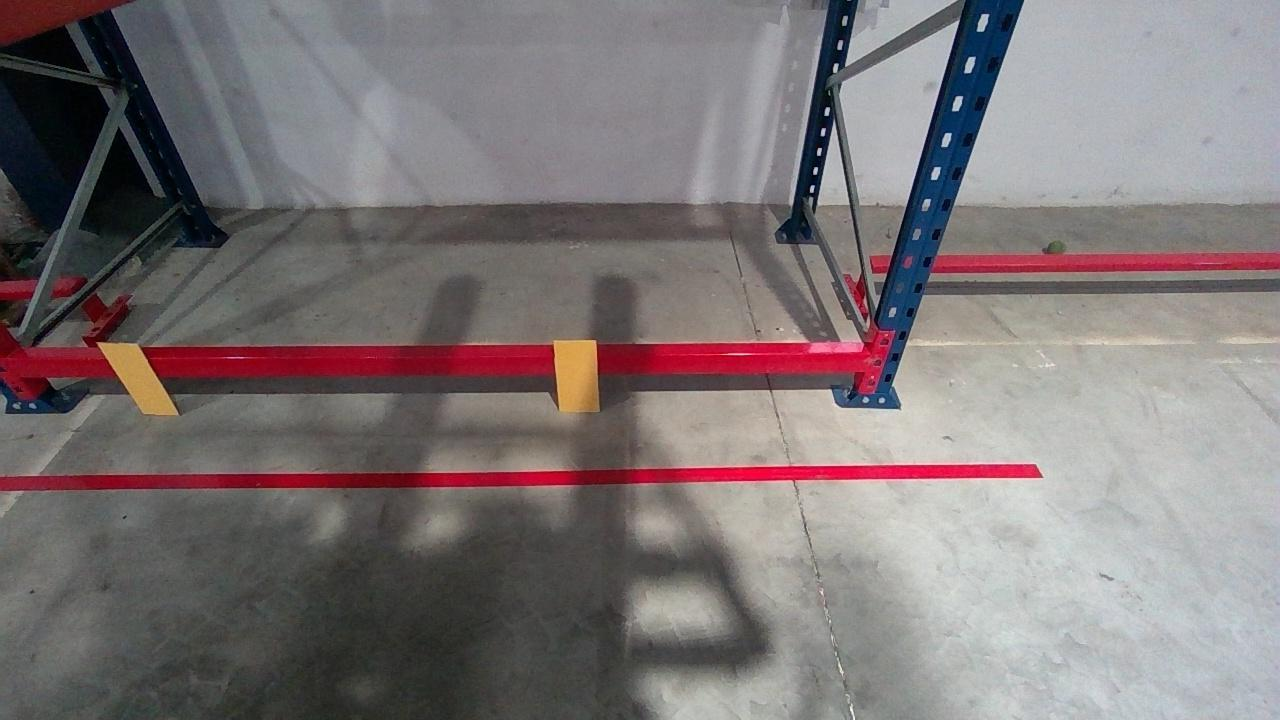h_rack: (3, 353, 889, 377)
orange_strip: (95, 344, 180, 413), (551, 339, 600, 411)
red_line: (1, 463, 1040, 490)
